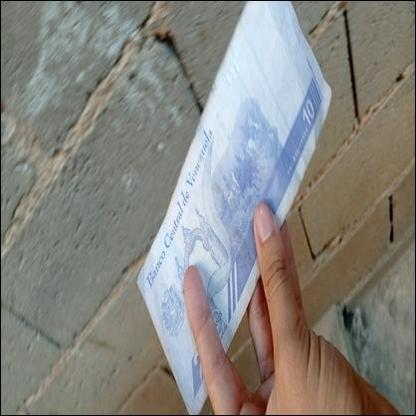ten-back-vef: (136, 0, 332, 416)
